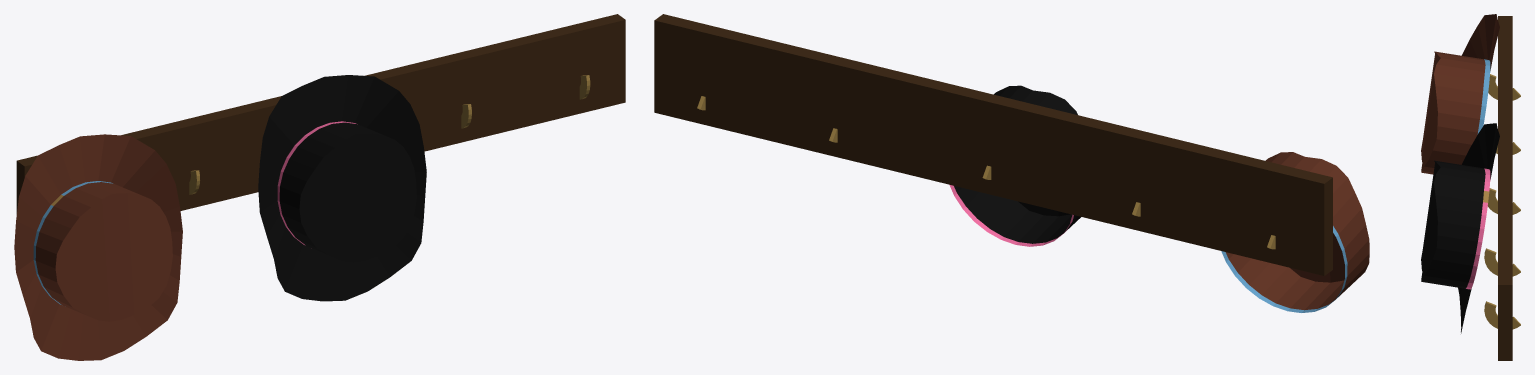
Rendered from sombrero.gltf.
The picture shows the model from 3 angles, left to right: view 1: azimuth 30°, elevation 25°; view 2: azimuth 150°, elevation 25°; view 3: azimuth 270°, elevation 25°; orthographic projection. The views are drawn at different scales.
Parts seen in each view (by area): view 1: Circle, Circle.006, Cube; view 2: Cube, Circle.006, Circle; view 3: Circle, Circle.006, Cube, Circle.002, Circle.005, Circle.001, Circle.003.
Part boxes in pixels (x1,y1,x2,y2): Circle: (258, 75, 426, 301); Circle.006: (14, 134, 182, 360); Cube: (16, 14, 625, 213); Cube: (654, 14, 1332, 275); Circle.006: (1221, 152, 1369, 312); Circle: (949, 85, 1080, 246); Circle: (1421, 123, 1499, 333); Circle.006: (1421, 14, 1499, 174); Cube: (1498, 16, 1512, 360); Circle.002: (1484, 301, 1520, 329); Circle.005: (1484, 248, 1520, 276); Circle.001: (1487, 188, 1520, 214); Circle.003: (1488, 74, 1520, 100).
Size of the model in its own units: 15.98 by 5.03 by 2.39.
